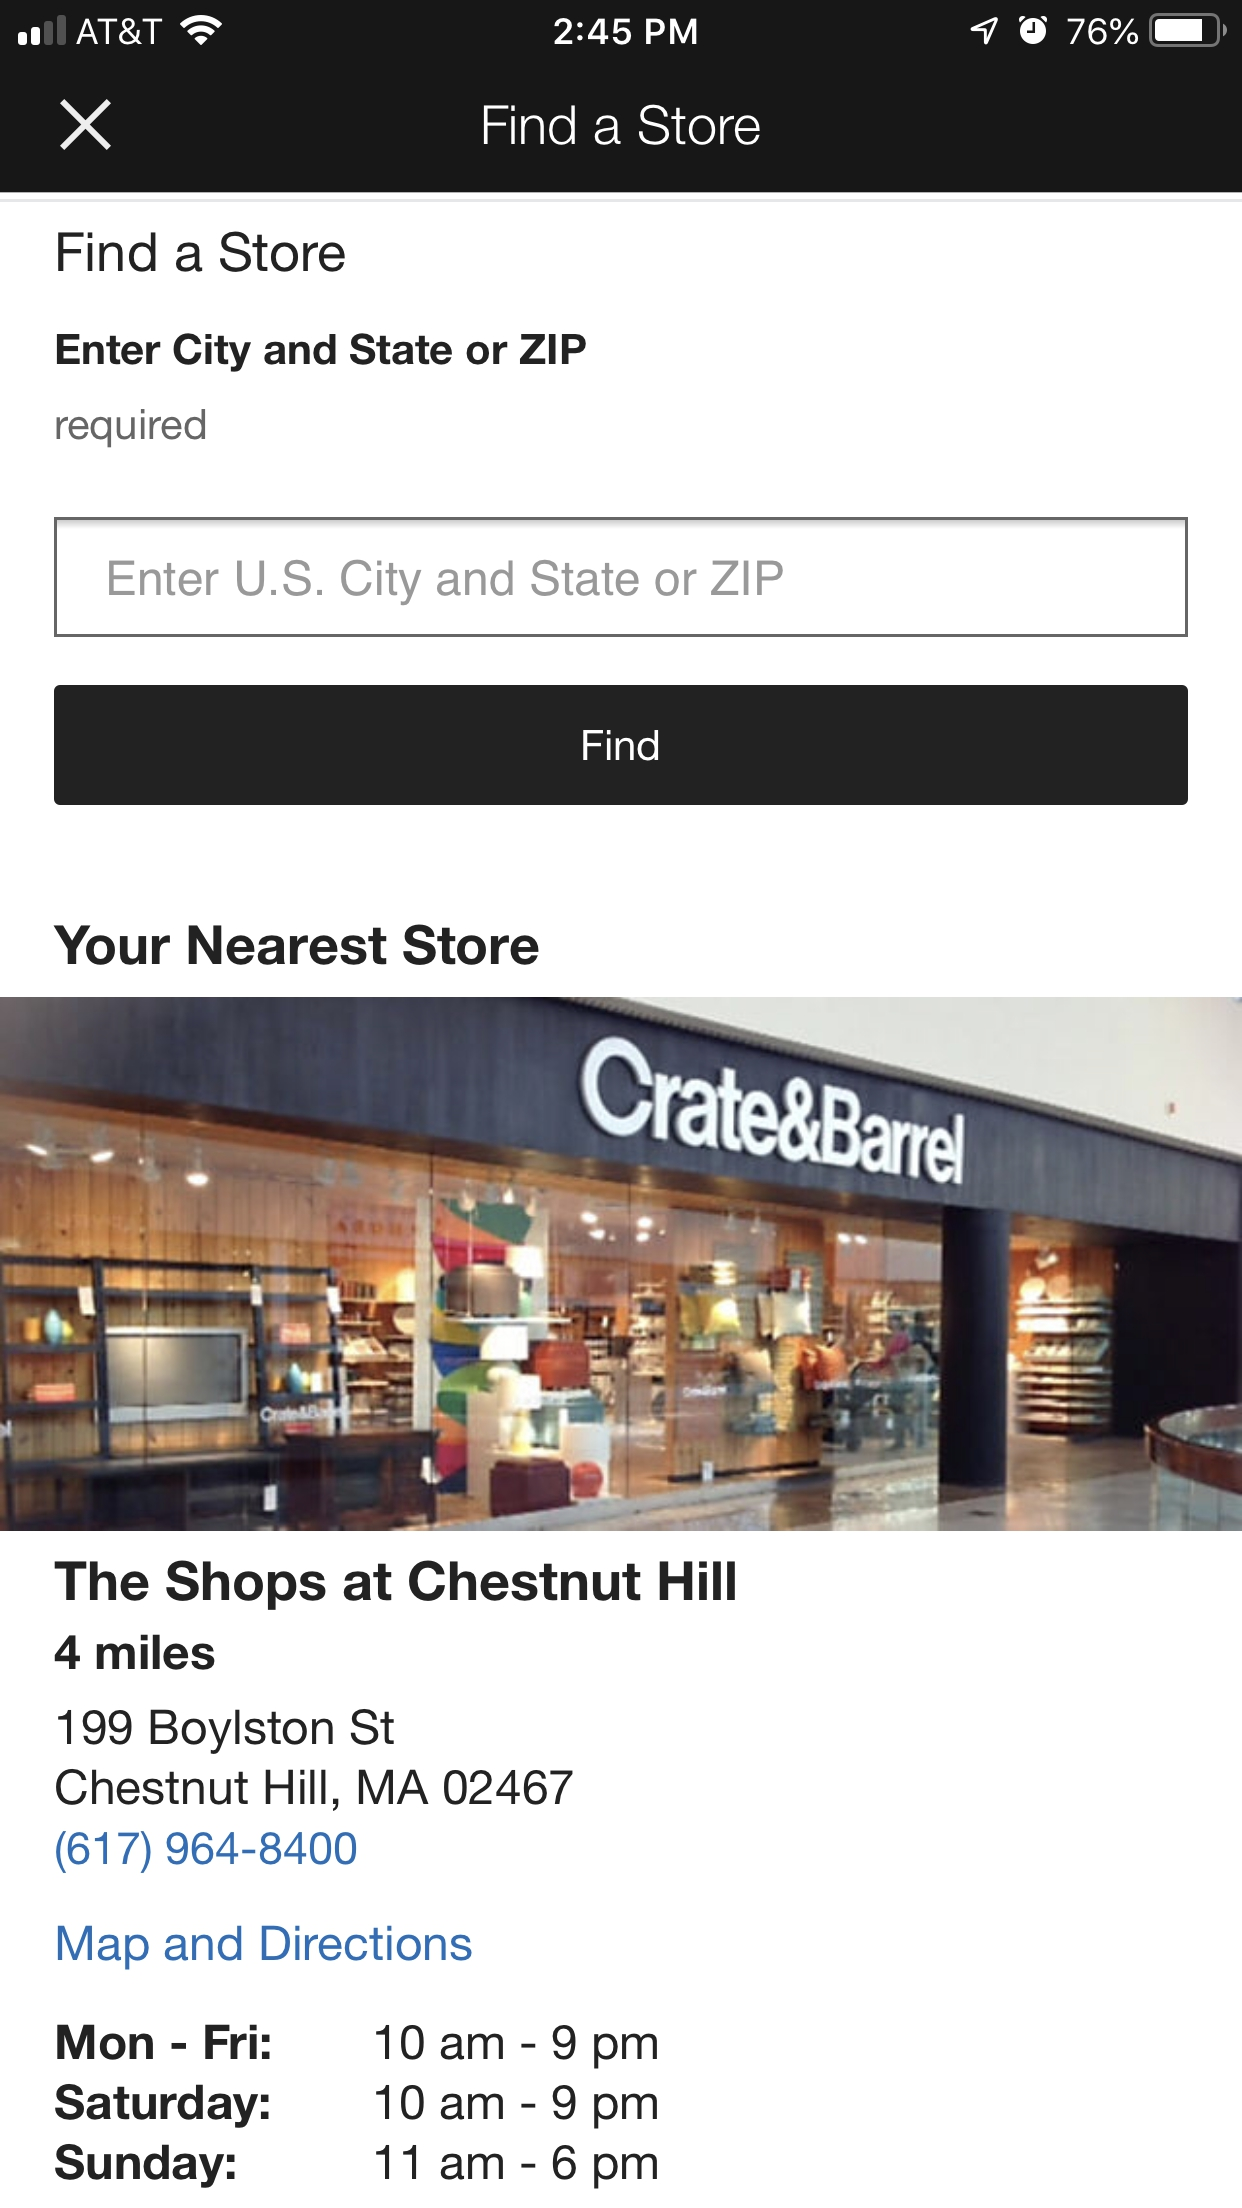EditText: (55, 517, 1189, 638)
Icon: (62, 100, 112, 150)
Image: (2, 996, 1239, 1532)
Text: (55, 1709, 575, 1812), (55, 1560, 735, 1611), (109, 560, 783, 607), (58, 334, 587, 375), (55, 924, 540, 966), (58, 1924, 475, 1971), (56, 1829, 358, 1874), (376, 2084, 658, 2131), (376, 2025, 658, 2070), (376, 2144, 658, 2190), (58, 231, 346, 274), (482, 105, 761, 147), (55, 2084, 270, 2129), (56, 2143, 237, 2188), (56, 2023, 271, 2061), (58, 409, 208, 449), (55, 1633, 215, 1670)
TextButton: (55, 685, 1189, 807)
UpperTaskBar: (2, 2, 1242, 49)
